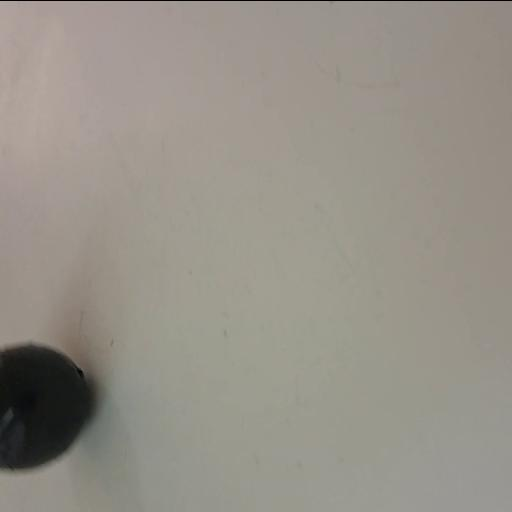dead: (0, 340, 93, 475)
